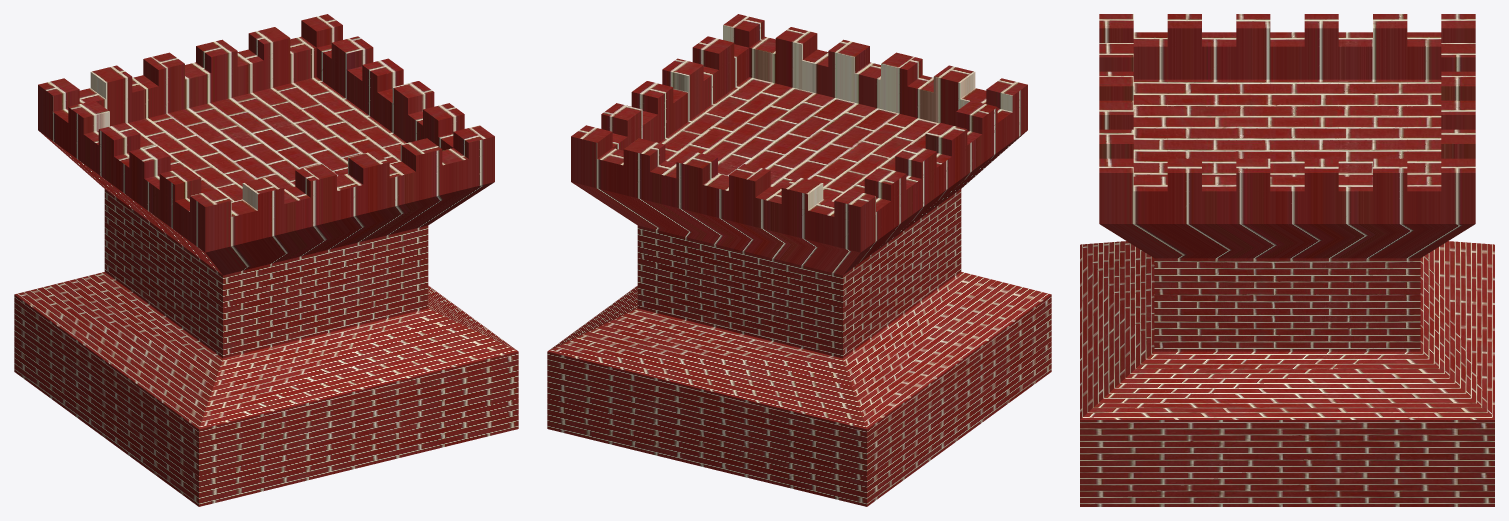
Rendered from BrickWall.fbx.
The picture shows the model from 3 angles, left to right: view 1: azimuth 30°, elevation 25°; view 2: azimuth 150°, elevation 25°; view 3: azimuth 270°, elevation 25°; orthographic projection. The views are drawn at different scales.
Visible parts, largest first — view 1: Wall; view 2: Wall; view 3: Wall.
Part boxes in pixels (<box>): Wall: <box>14,14,518,506</box>; Wall: <box>547,14,1051,506</box>; Wall: <box>1080,14,1494,506</box>.
Size of the model in its own units: 200 by 173 by 200.
